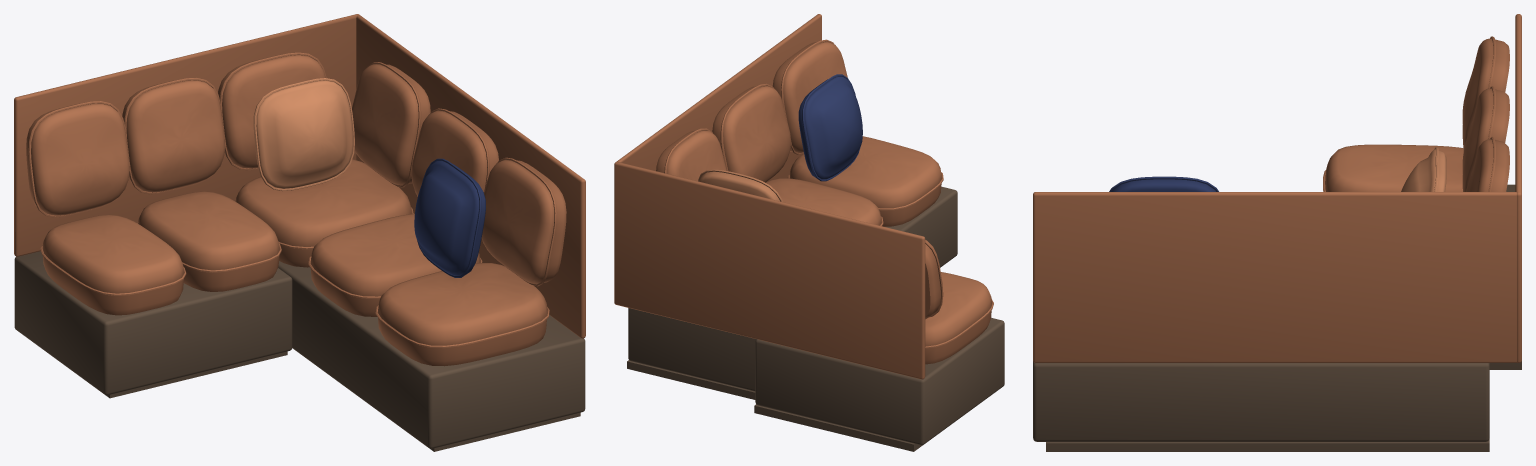
The model's file is banquette-lod0.glb.
3 views of the same model, side by side, from view 1: azimuth 30°, elevation 25°; view 2: azimuth 150°, elevation 25°; view 3: azimuth 270°, elevation 25° (orthographic). The views are drawn at different scales.
Visible parts, largest first — view 1: banquette.lod0__rust boucle textile, banquette.lod0__honey ash, banquette.lod0__terracotta, banquette.lod0__indigo textile; view 2: banquette.lod0__rust boucle textile, banquette.lod0__honey ash, banquette.lod0__indigo textile, banquette.lod0__terracotta; view 3: banquette.lod0__rust boucle textile, banquette.lod0__honey ash, banquette.lod0__indigo textile, banquette.lod0__terracotta.
Part boxes in pixels (<box>): banquette.lod0__rust boucle textile: <box>14,14,585,366</box>; banquette.lod0__honey ash: <box>14,251,585,451</box>; banquette.lod0__terracotta: <box>253,78,354,191</box>; banquette.lod0__indigo textile: <box>414,158,485,277</box>; banquette.lod0__rust boucle textile: <box>614,14,993,379</box>; banquette.lod0__honey ash: <box>627,186,1004,451</box>; banquette.lod0__indigo textile: <box>798,74,862,181</box>; banquette.lod0__terracotta: <box>698,169,782,201</box>; banquette.lod0__rust boucle textile: <box>1033,14,1521,362</box>; banquette.lod0__honey ash: <box>1033,184,1521,451</box>; banquette.lod0__indigo textile: <box>1109,176,1218,191</box>; banquette.lod0__terracotta: <box>1401,147,1446,191</box>.
Size of the model in its own units: 1.33 by 0.88 by 1.51.
